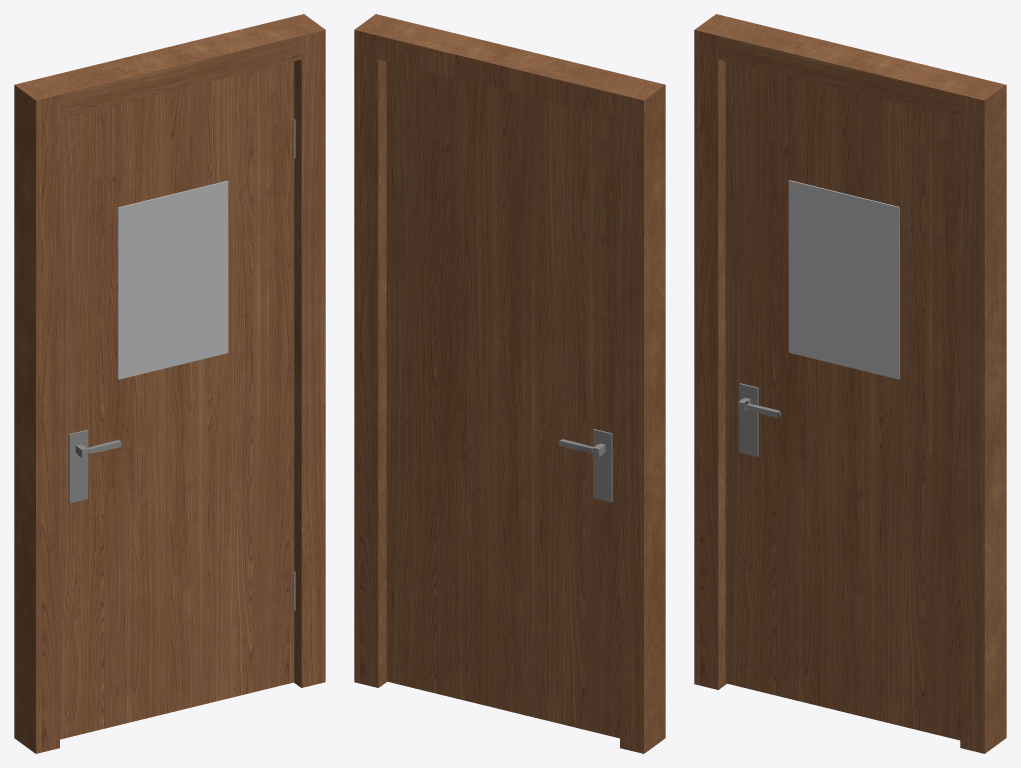
Rendered from Door 1.FBX.
3 renders of one model, left to right at view 1: azimuth 30°, elevation 25°; view 2: azimuth 150°, elevation 25°; view 3: azimuth 330°, elevation 25°, orthographic.
Parts seen in each view (by area): view 1: Door 1, door frame; view 2: Door 1, door frame; view 3: Door 1, door frame.
Part boxes in pixels (box(x1,y1,x2,y2)): Door 1: box(60, 61, 295, 739); door frame: box(14, 14, 325, 753); Door 1: box(386, 61, 619, 738); door frame: box(354, 14, 665, 753); Door 1: box(725, 61, 960, 740); door frame: box(694, 14, 1006, 753).
Bounding box in the file's own units: 98.43 × 212 × 13.53.
